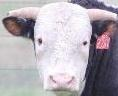muzzles: (41, 71, 81, 95)
